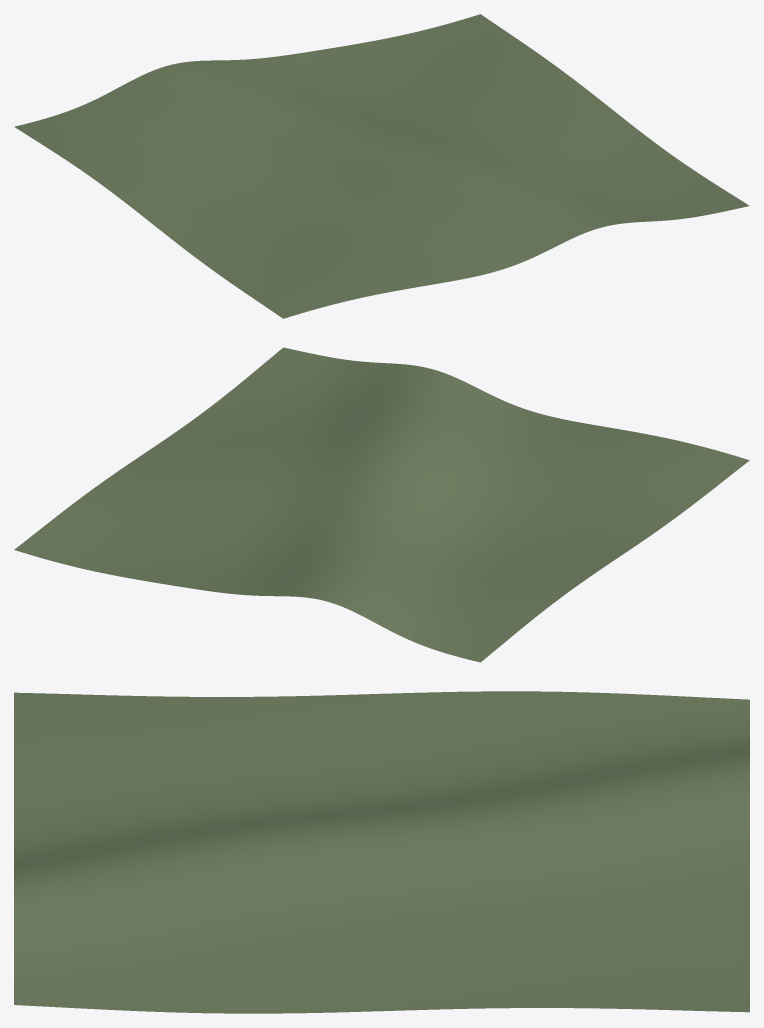
File: harbor_dredge_basin.obj
3 views of the same model, one above another, from view 1: azimuth 30°, elevation 25°; view 2: azimuth 150°, elevation 25°; view 3: azimuth 270°, elevation 25° (orthographic). The views are drawn at different scales.
Bounding box in the file's own units: 179 × 10.04 × 179.
